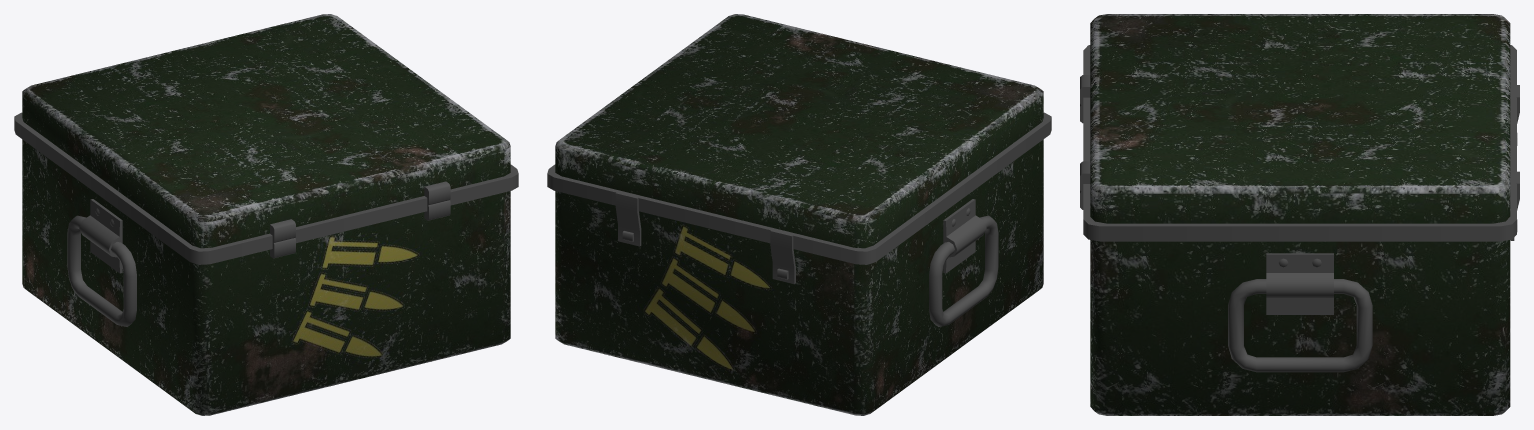
3 renders of one model, left to right at view 1: azimuth 30°, elevation 25°; view 2: azimuth 150°, elevation 25°; view 3: azimuth 270°, elevation 25°, orthographic. The views are drawn at different scales.
Visible parts, largest first — view 1: Object_2; view 2: Object_2; view 3: Object_2.
Part boxes in pixels (bbox=[...]): Object_2: bbox=[14, 14, 518, 415]; Object_2: bbox=[547, 14, 1051, 415]; Object_2: bbox=[1080, 14, 1519, 415].
Size of the model in its own units: 54.45 by 30 by 52.35.
1 material, 1 textured.
